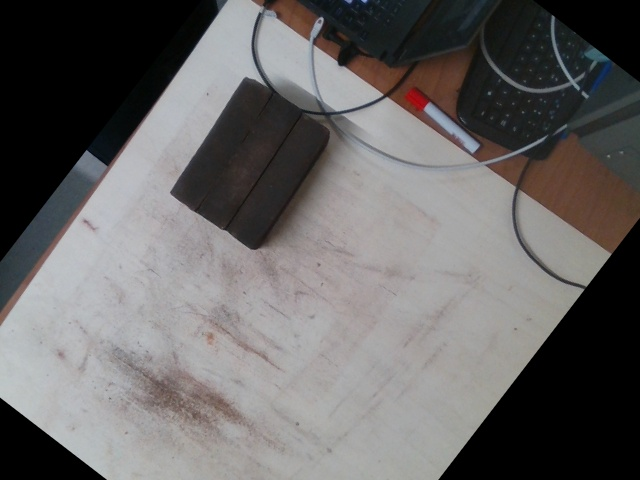brick-side: (198, 97, 299, 227), (227, 117, 328, 247), (171, 78, 271, 208)
